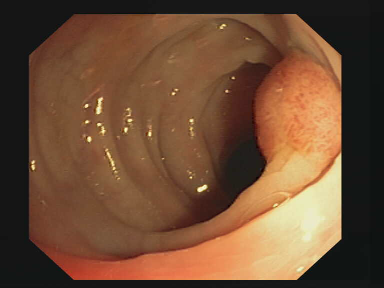polyp: (244, 47, 342, 211)
